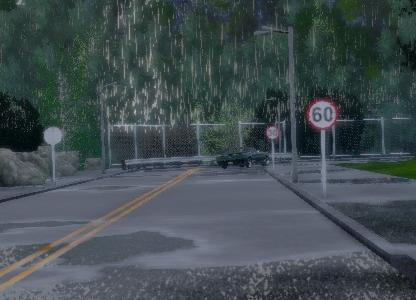Speed_60: (303, 97, 339, 134)
